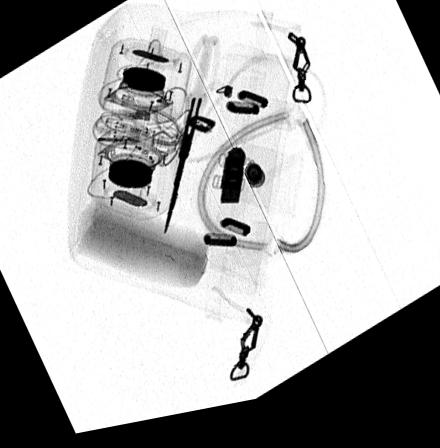Scissors: (161, 42, 221, 245)
